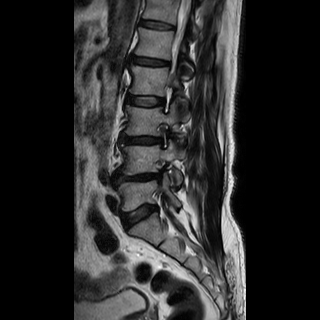LFS2: (150, 115, 179, 156)
